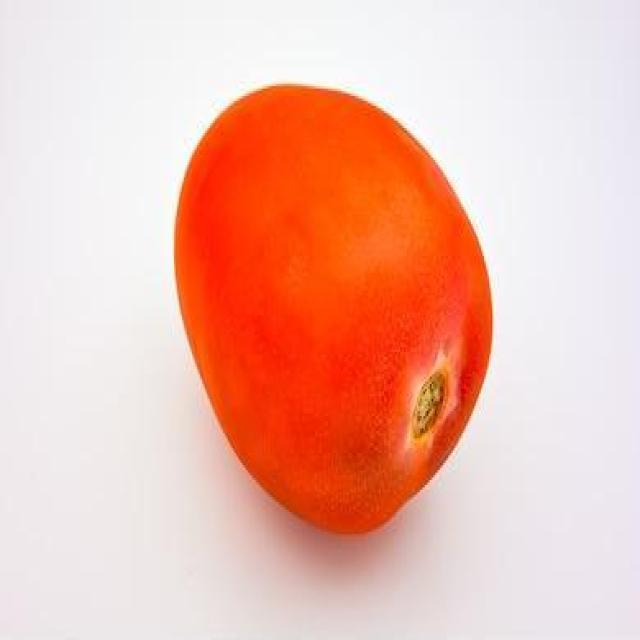Fresh_tomato: (172, 84, 494, 537)
